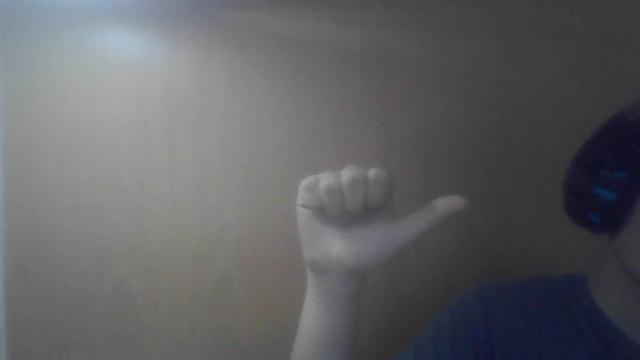left: (290, 158, 470, 278)
